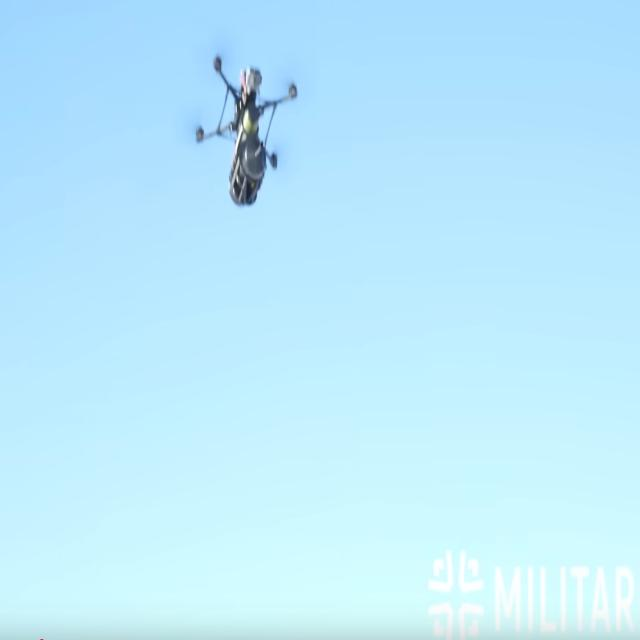drone: (188, 43, 311, 212)
